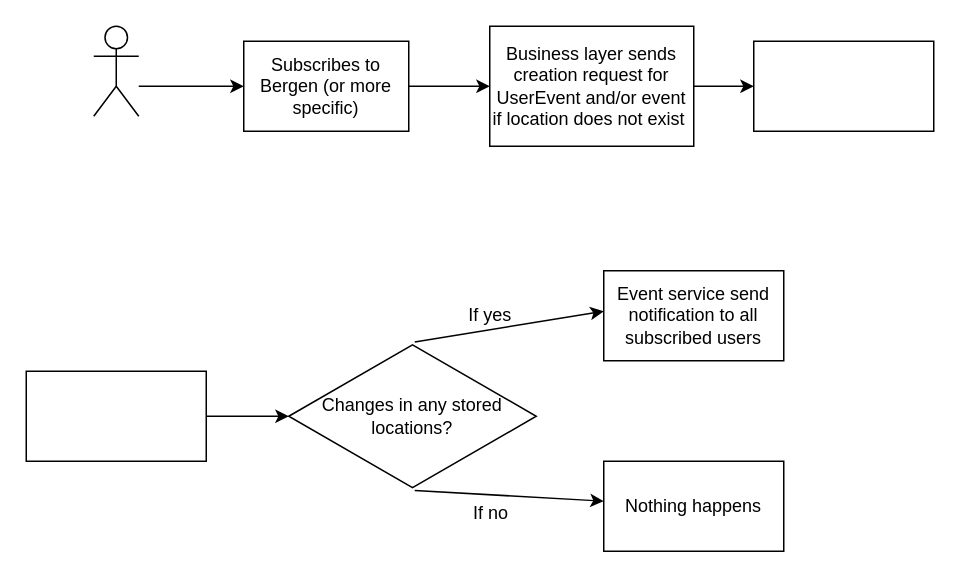
The diagram is 960 pixels wide and 578 high, and some of its shapes have lost their labels. Here are the shapes that lost their labels. From the top down, the centre of each, then its label:
point 115,70: Actor
point 843,85: DB project handles creation
point 115,415: Backgroundservice polling weatherapi for data
